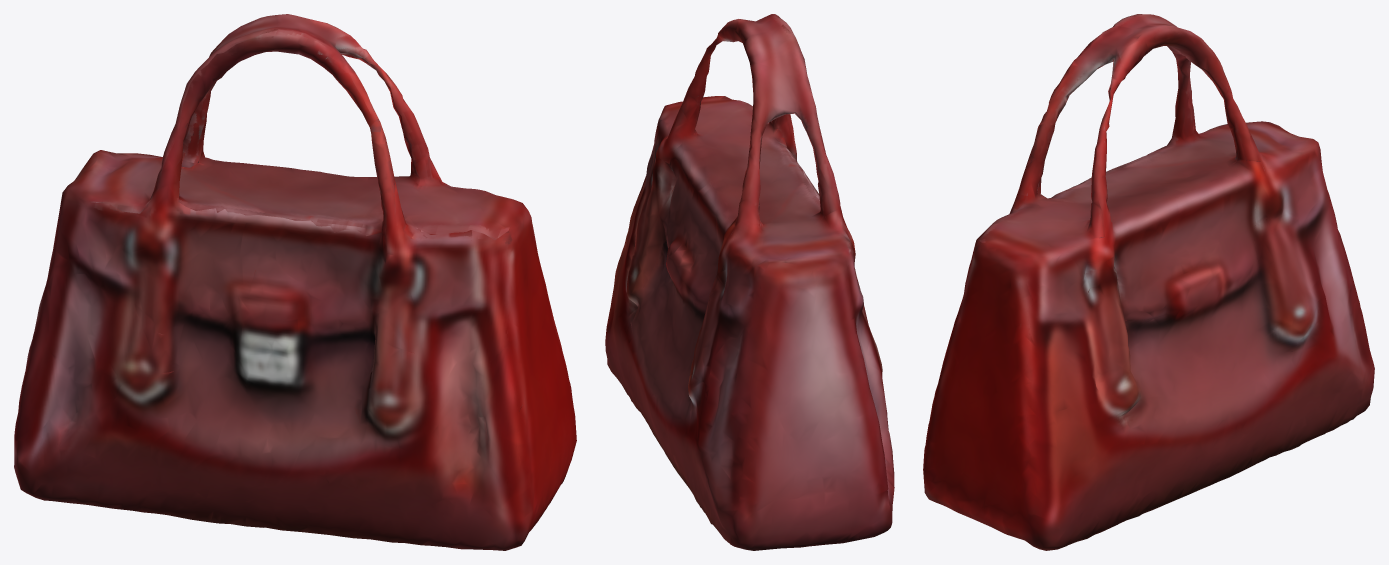
The model's file is bag.glb.
3 views of the same model, side by side, from view 1: azimuth 30°, elevation 25°; view 2: azimuth 150°, elevation 25°; view 3: azimuth 270°, elevation 25° (orthographic). The views are drawn at different scales.
Size of the model in its own units: 0.9606 by 1.02 by 0.9519.
1 material, 1 textured.
